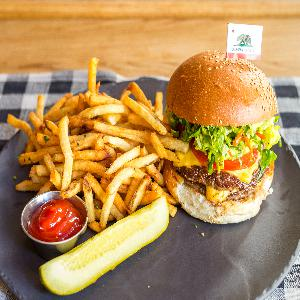cheeseburger: (167, 39, 280, 243)
fries: (10, 66, 168, 208)
